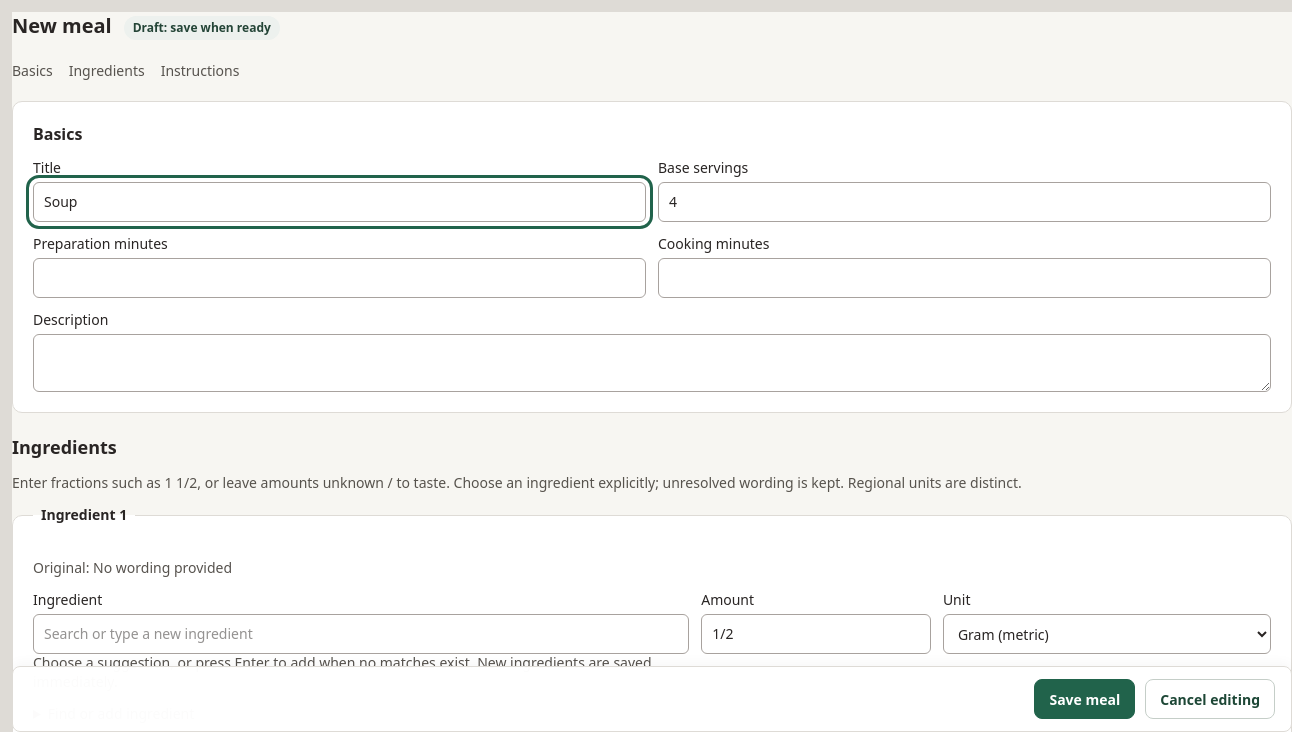
Test case: reuses an exact alias on Enter without creating a duplicate
Type "Onions" into the dropdown labelled "Ingredient" at [361, 634], box top-left (33, 614), bottom-right (689, 654)
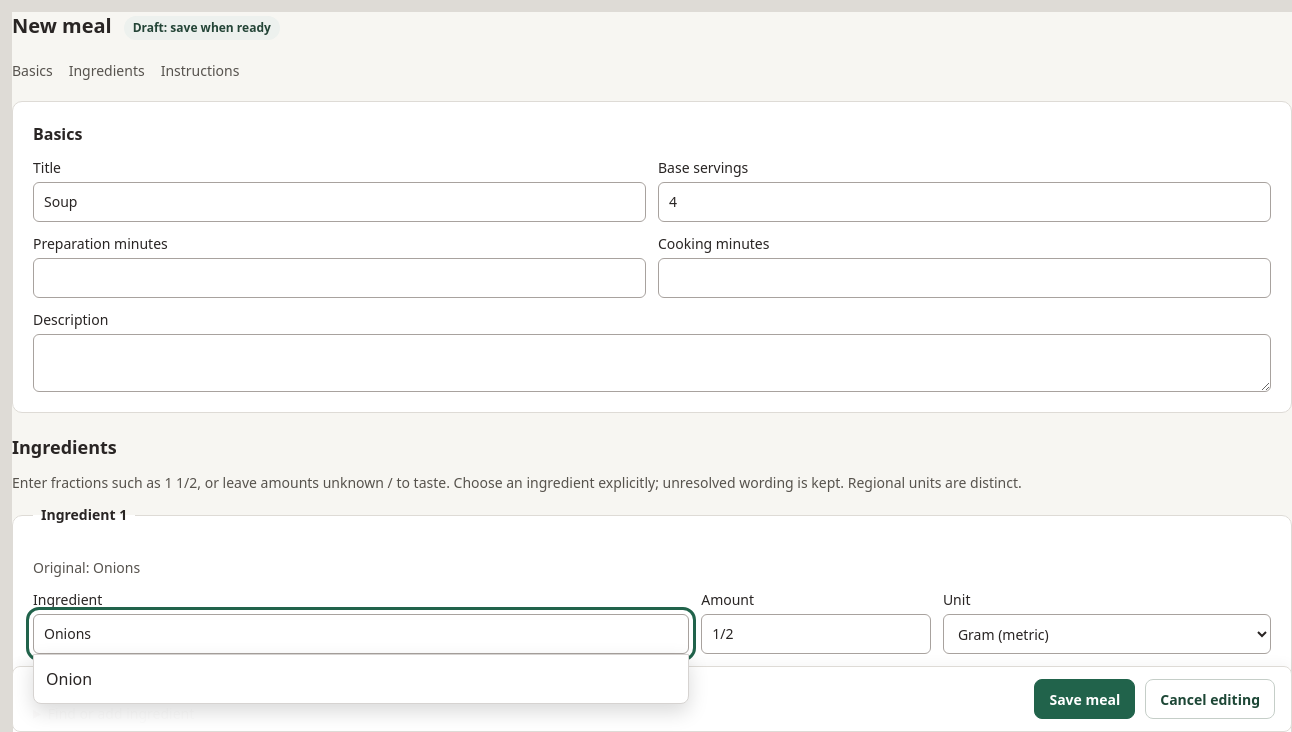
Expected: the option "Onion" is shown, top-left (38, 659), bottom-right (684, 699)
Press Enter
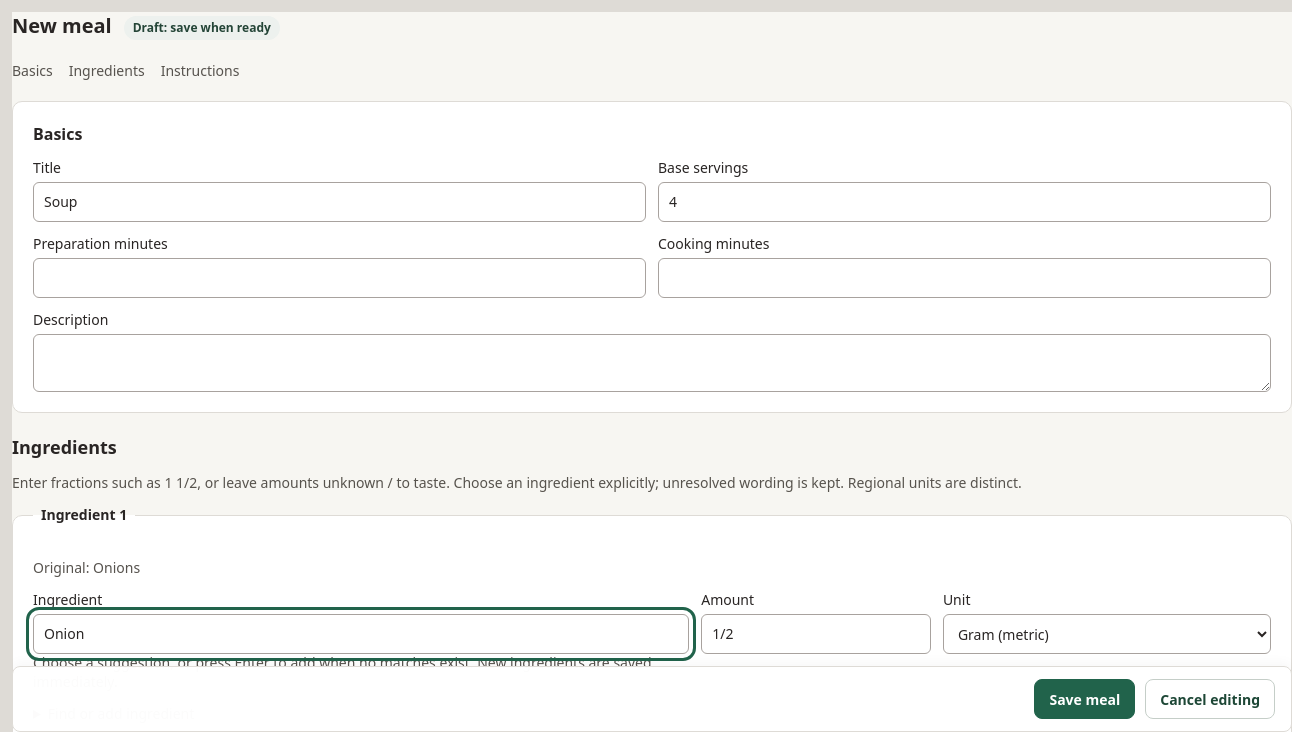
Expected: the dropdown labelled "Ingredient" holds "Onion", top-left (33, 614), bottom-right (689, 654)
